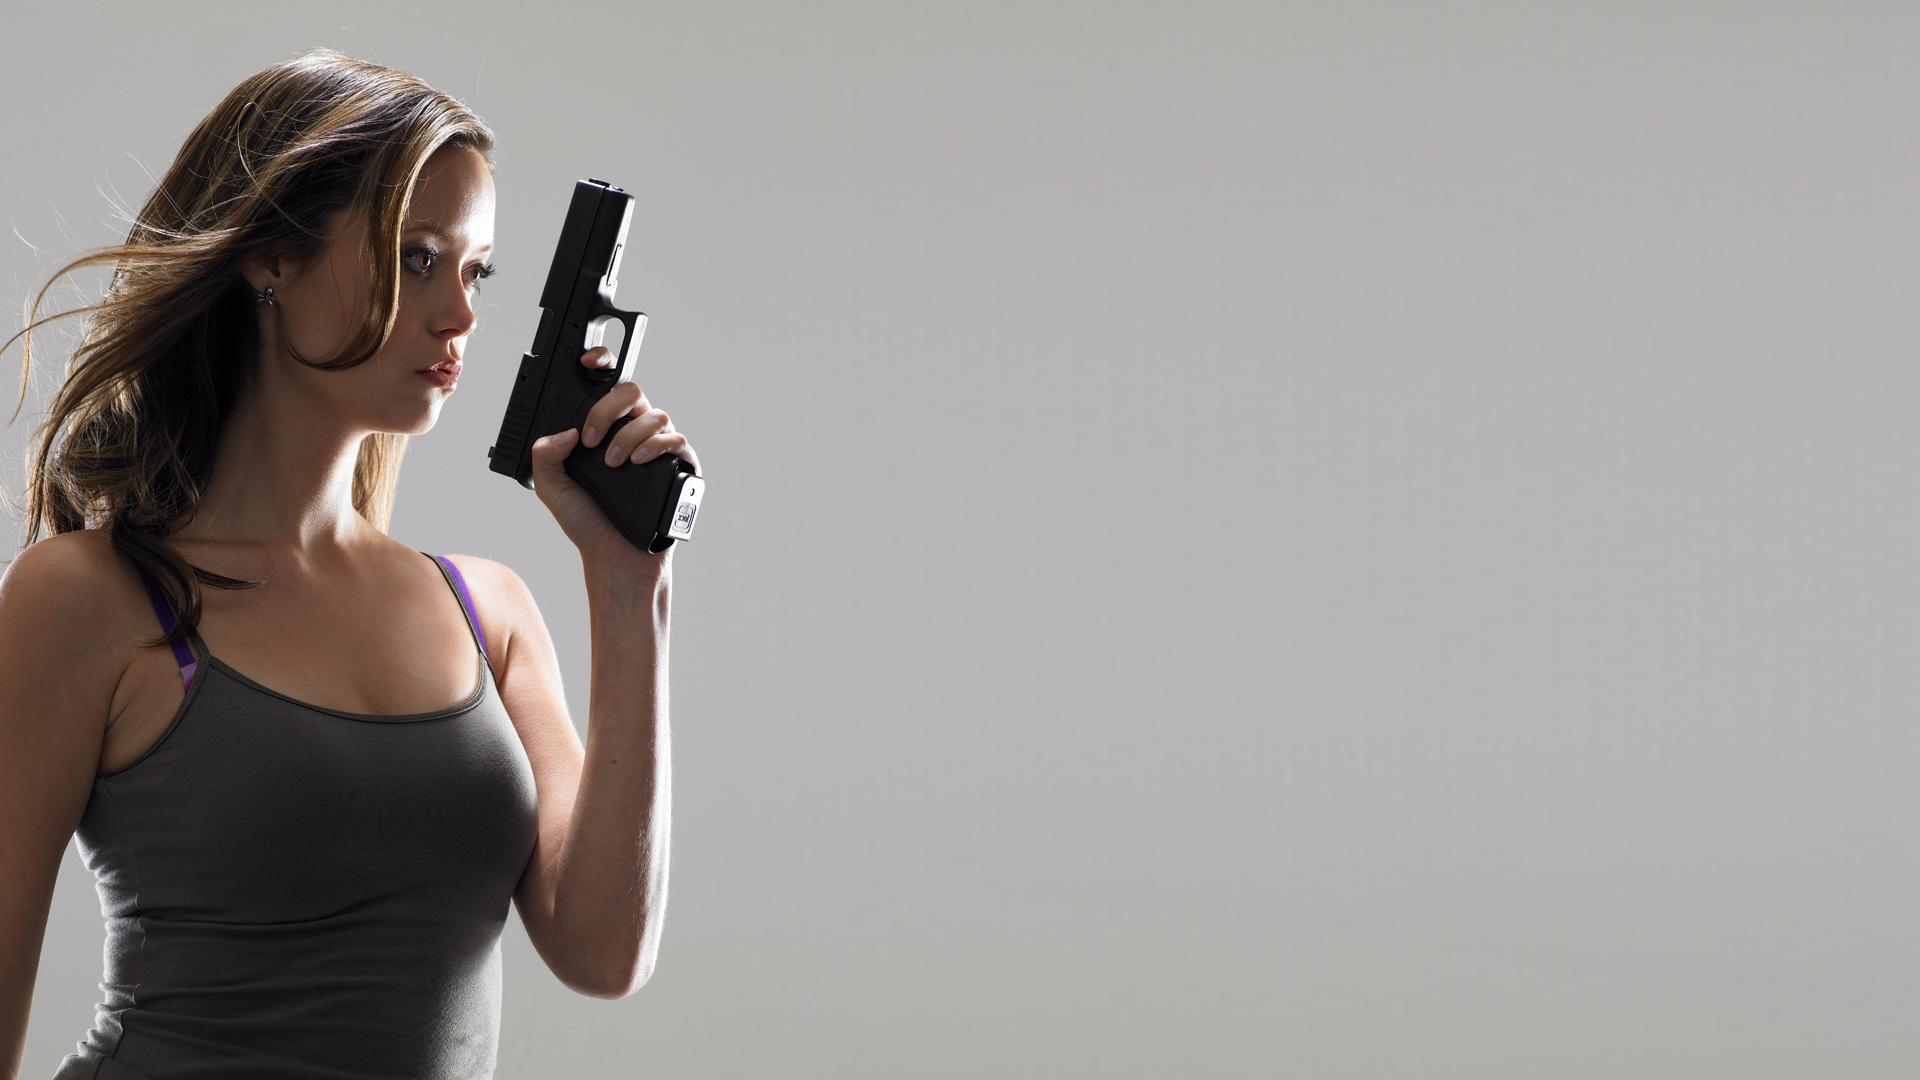criminal: (0, 47, 709, 1080)
weapon: (489, 178, 708, 555)
